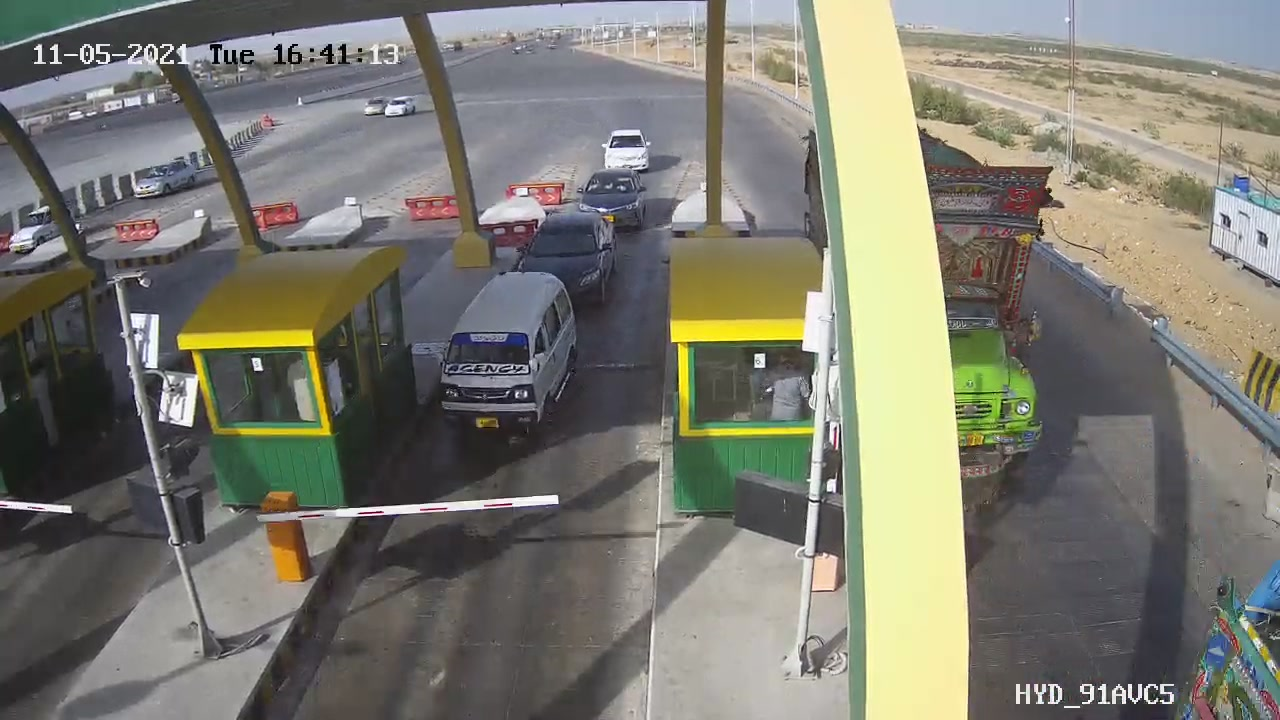F1: (426, 260, 596, 455)
